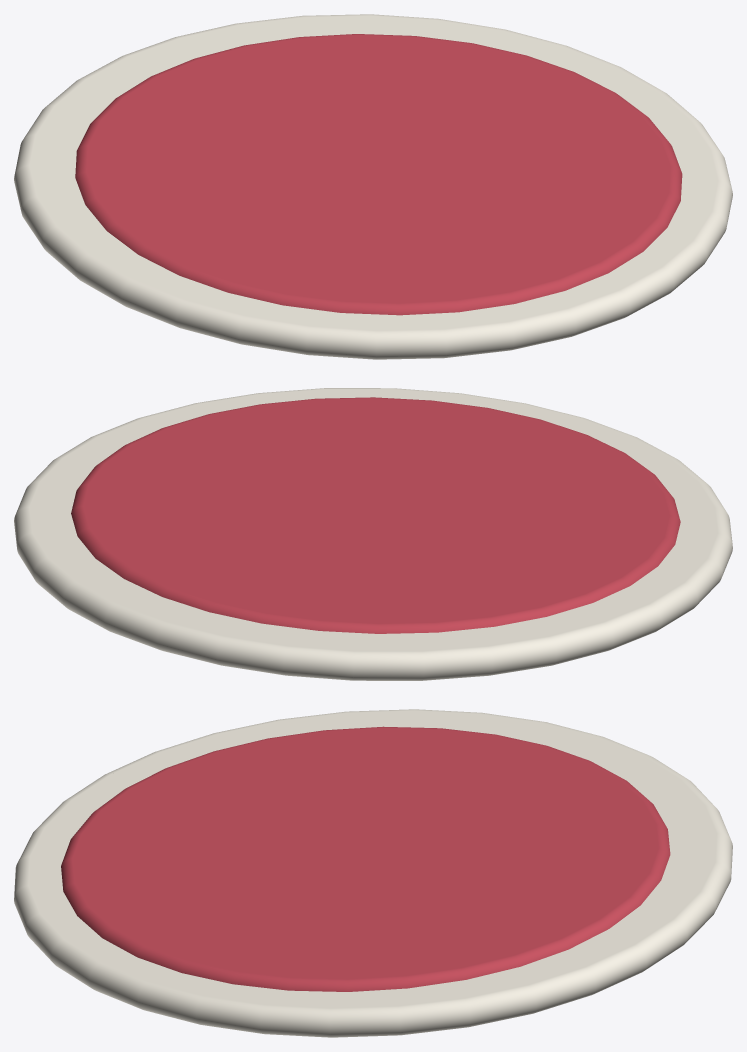
Rendered from dong.fbx.
3 renders of one model, top to bottom at view 1: azimuth 30°, elevation 25°; view 2: azimuth 150°, elevation 25°; view 3: azimuth 270°, elevation 25°, orthographic.
Visible parts, largest first — view 1: Cylinder.001, Cylinder; view 2: Cylinder.001, Cylinder; view 3: Cylinder.001, Cylinder.
Boxes of the visible parts, box(x1,y1,x2,y2) form: Cylinder.001: box(75, 34, 682, 315); Cylinder: box(14, 14, 732, 359); Cylinder.001: box(71, 397, 680, 633); Cylinder: box(14, 388, 732, 680); Cylinder.001: box(61, 726, 670, 991); Cylinder: box(14, 709, 732, 1037).
Bounding box in the file's own units: 29.89 × 2.83 × 29.85.
